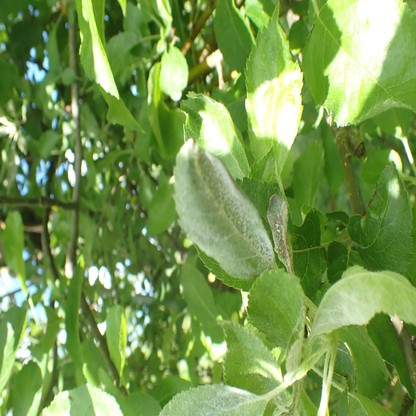powder: (173, 136, 274, 292), (313, 270, 416, 328), (158, 382, 269, 416), (267, 194, 291, 274)
